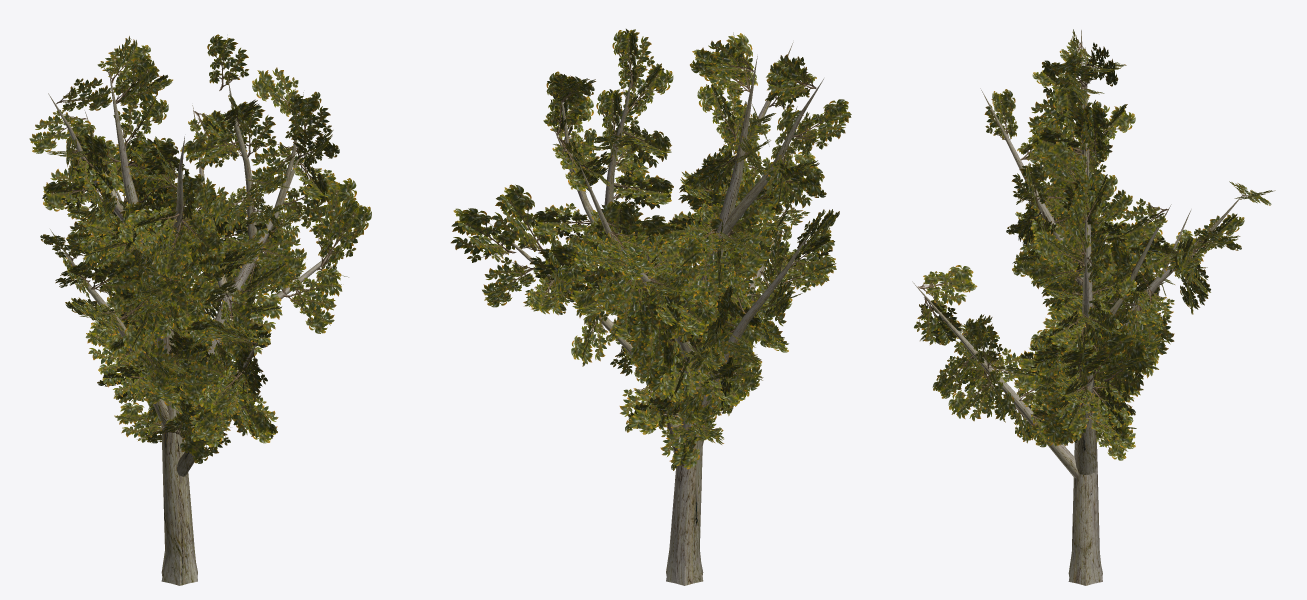
File: tree1_model.fbx
3 renders of one model, left to right at view 1: azimuth 30°, elevation 25°; view 2: azimuth 150°, elevation 25°; view 3: azimuth 270°, elevation 25°, orthographic. The views are drawn at different scales.
Parts seen in each view (by area): view 1: Tree1; view 2: Tree1; view 3: Tree1.
Boxes of the visible parts, x1,y1,x2,y2 form: Tree1: (29,34,371,585); Tree1: (451,29,851,585); Tree1: (912,29,1275,585).
Bounding box in the file's own units: 2951 × 4136 × 2827.
